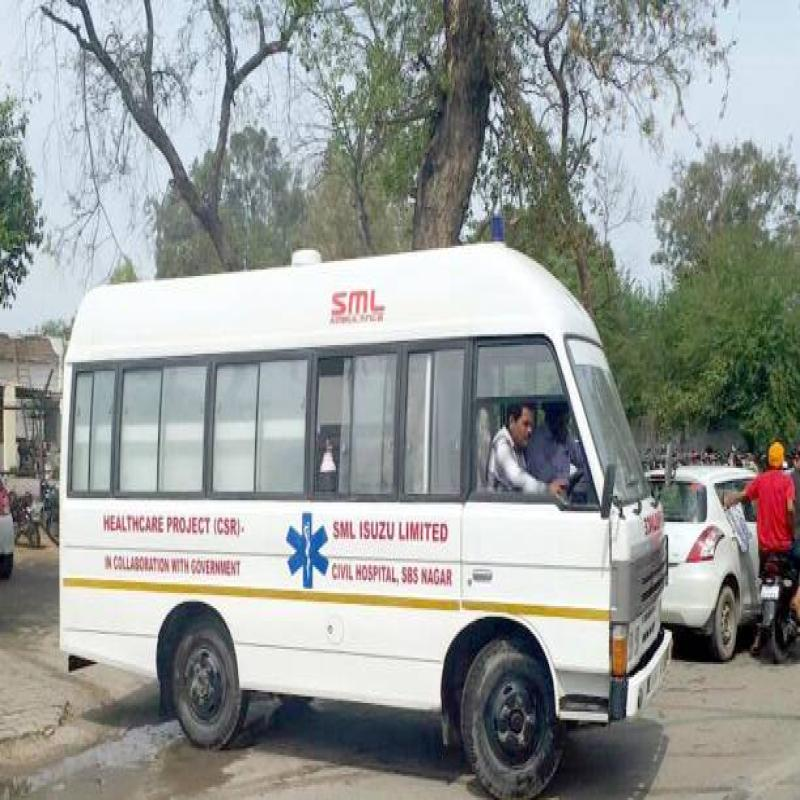ambulance: (60, 279, 635, 769)
